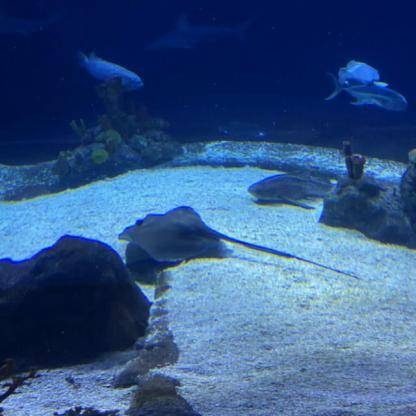fish: (247, 172, 344, 202), (73, 53, 143, 90), (322, 84, 414, 108), (331, 62, 387, 85)
shark: (150, 18, 245, 50)
stingray: (119, 205, 223, 261)
